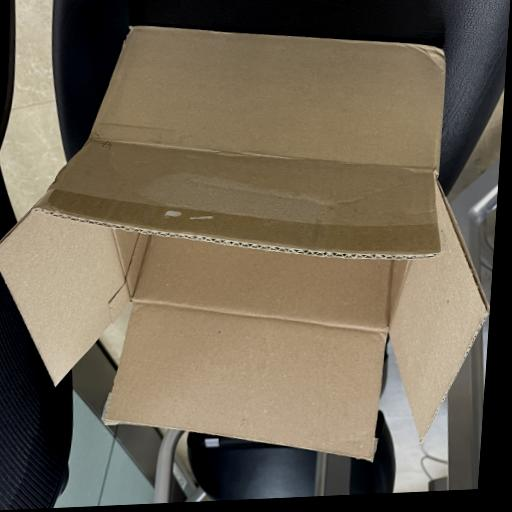box: (1, 25, 490, 463)
opened: (1, 141, 490, 464)
